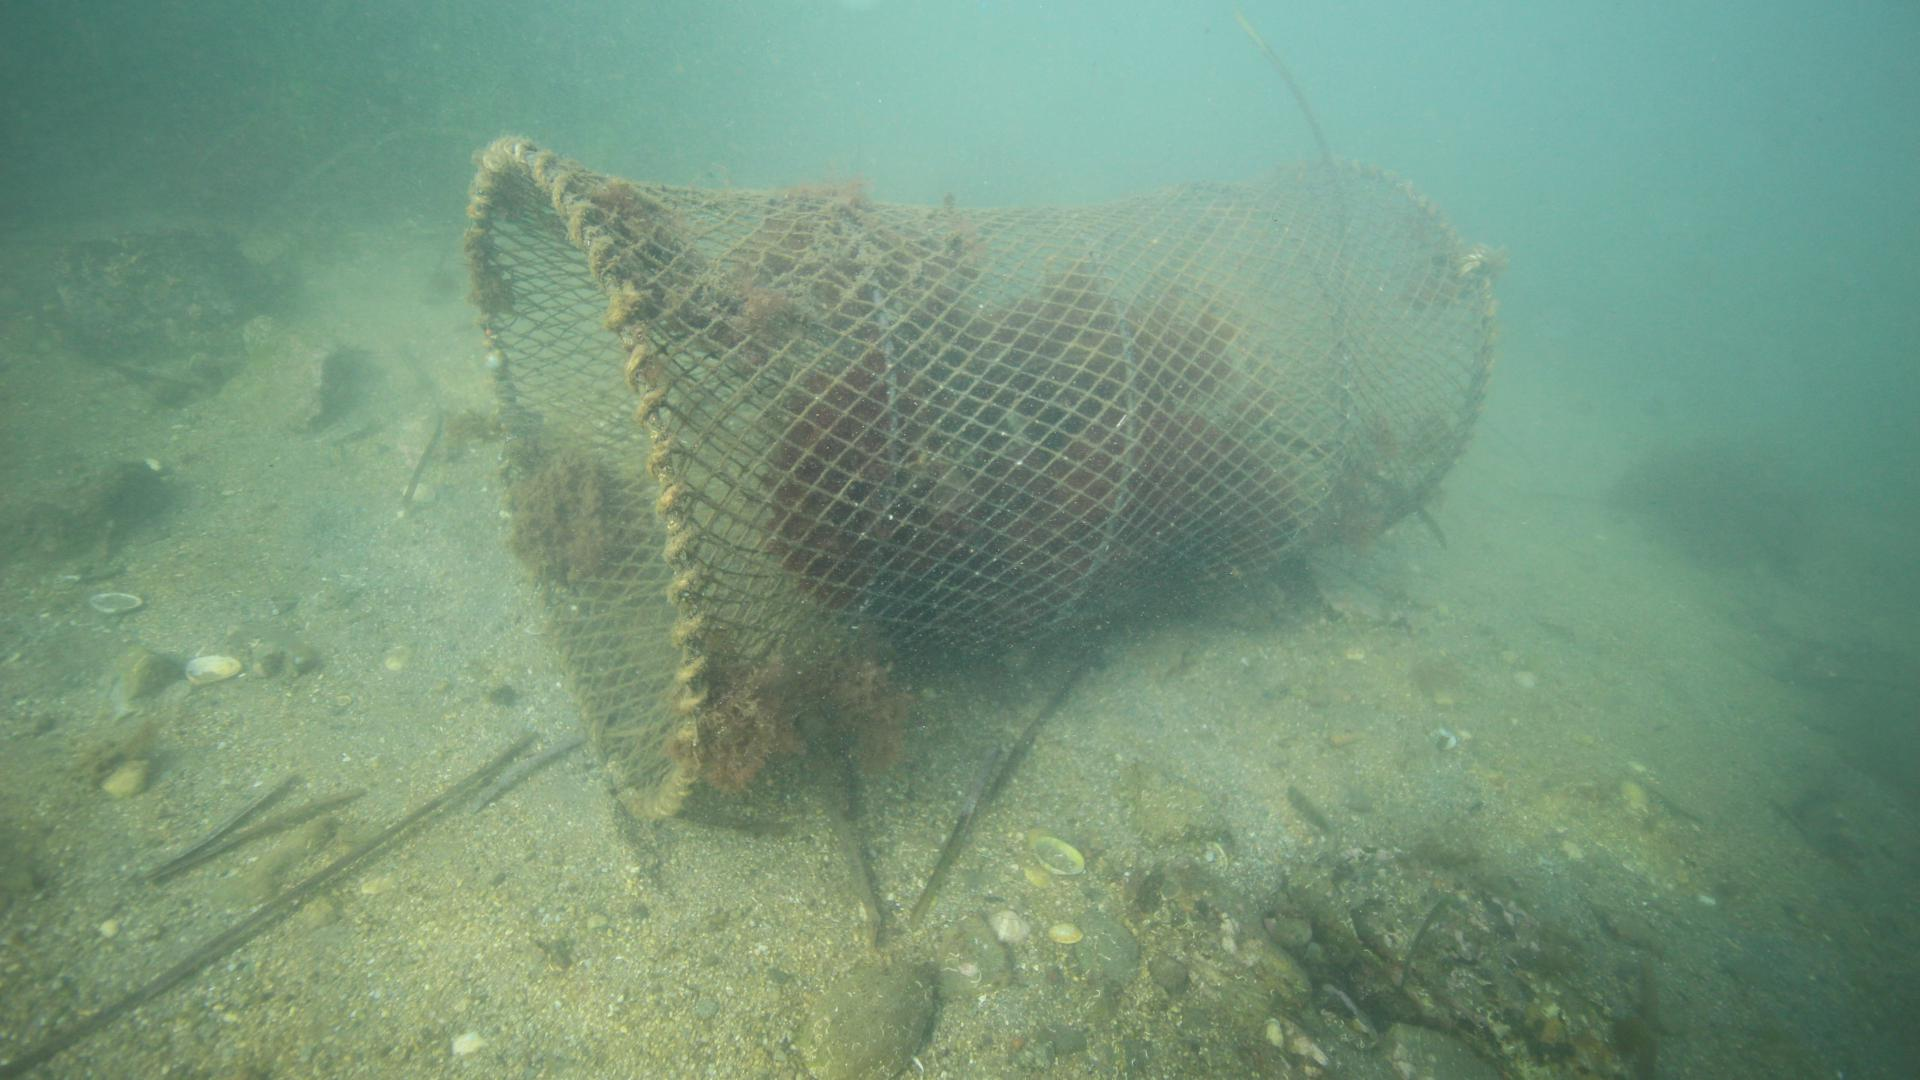spring fish trap: (465, 135, 1495, 820)
